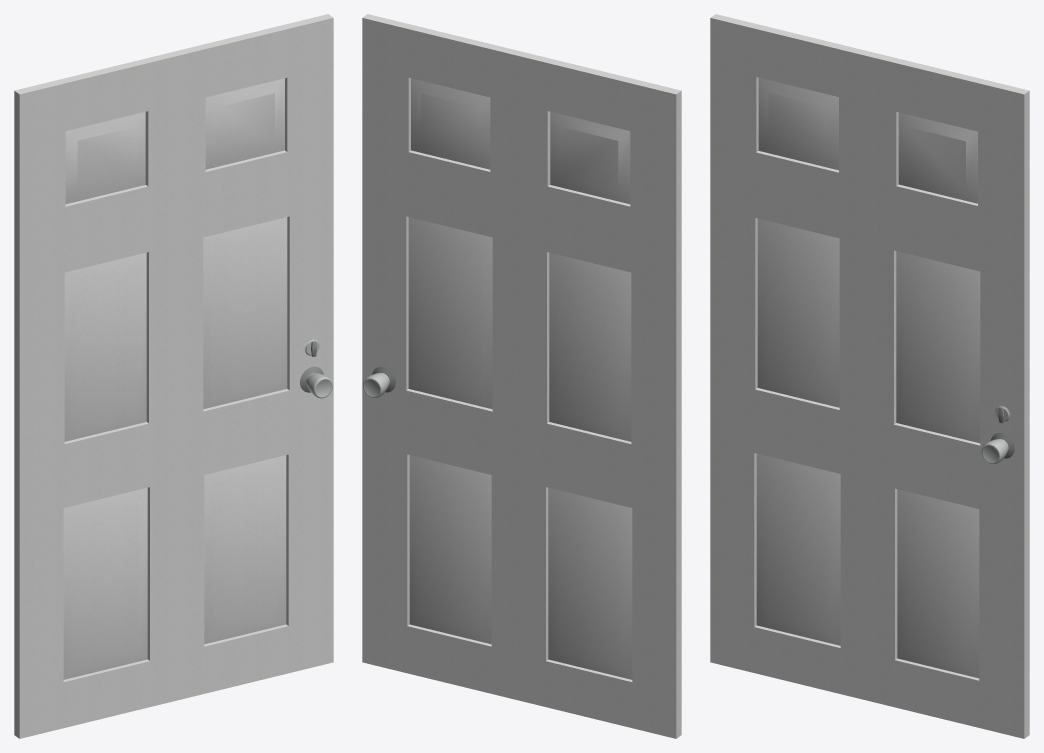
File: bathroom door.fbx
3 renders of one model, left to right at view 1: azimuth 30°, elevation 25°; view 2: azimuth 150°, elevation 25°; view 3: azimuth 330°, elevation 25°, orthographic.
Visible parts, largest first — view 1: BATHROOM DOOR; view 2: BATHROOM DOOR; view 3: BATHROOM DOOR.
Part boxes in pixels (x1,y1,x2,y2): BATHROOM DOOR: (14,14,333,738); BATHROOM DOOR: (362,14,681,738); BATHROOM DOOR: (710,14,1029,738).
Size of the model in its own units: 102 by 200 by 16.38.
